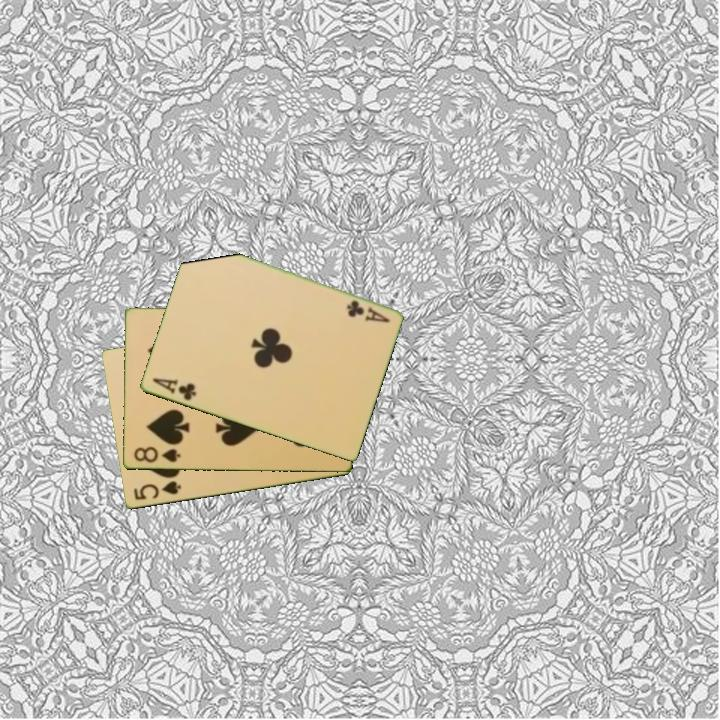5s: (130, 478, 184, 503)
8s: (130, 444, 183, 466)
Ac: (149, 375, 199, 404), (343, 297, 392, 326)
